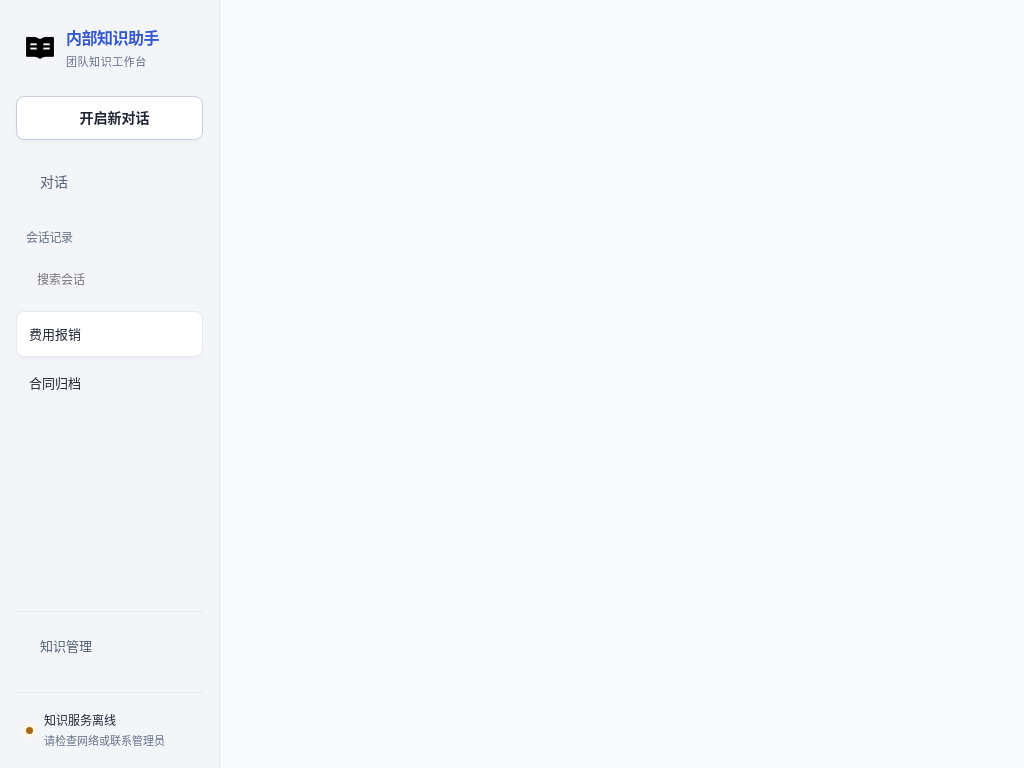
Test: AppSidebar › closes the delete dialog after a successful deletion
The width and height of the screenshot is (1024, 768).
Click the 1st button with class "session-delete" at point(180, 334), box [158,312,202,356]
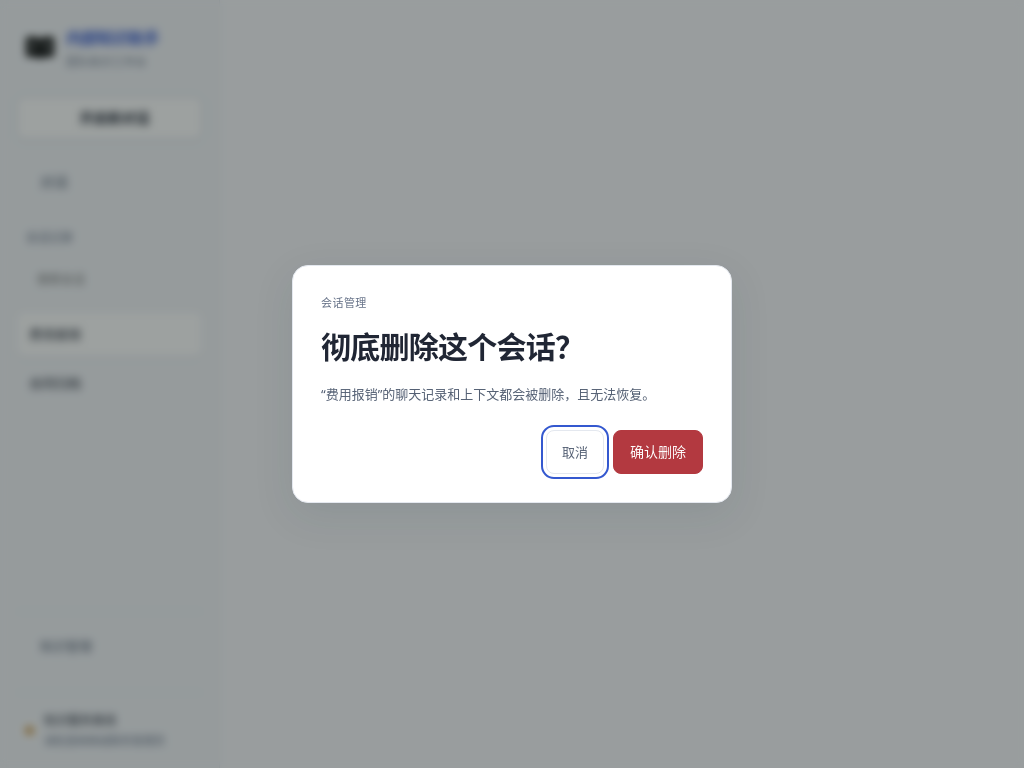
Expected: the dialog with class "confirm-dialog" is shown, [292,265,732,503]
Click the button with class "danger-button" at point(658, 452), box [613,430,703,474]
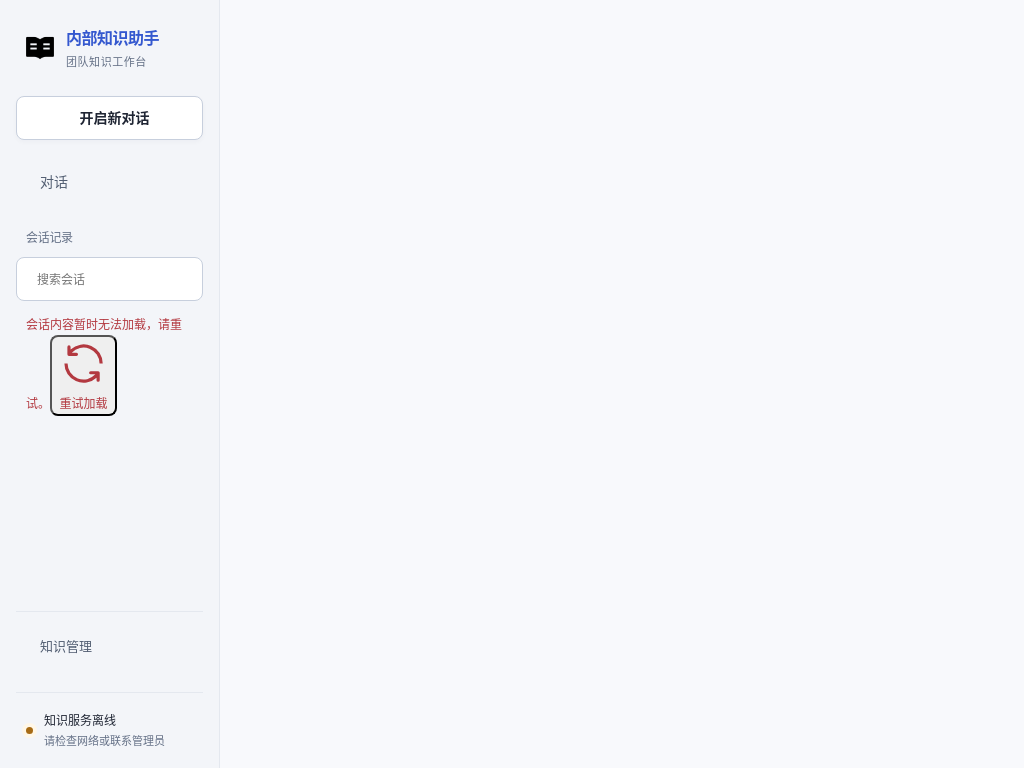
Expected: the dialog with class "confirm-dialog" is gone
